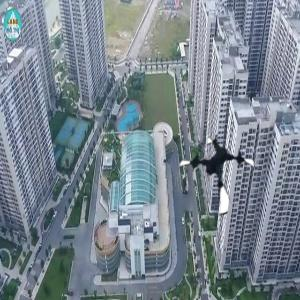drone: (175, 133, 260, 218)
